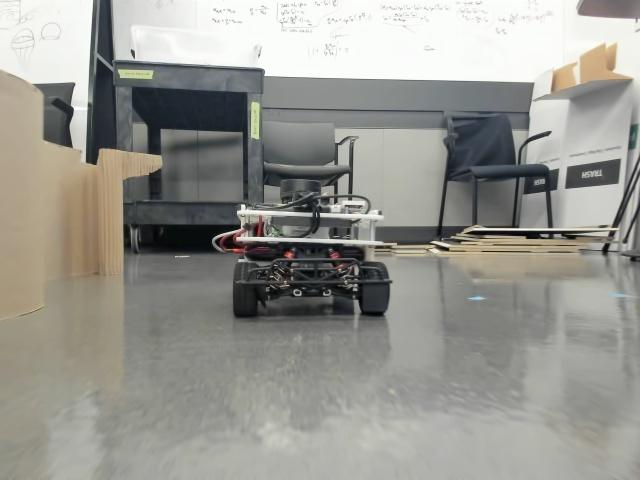Car: (231, 179, 388, 315)
